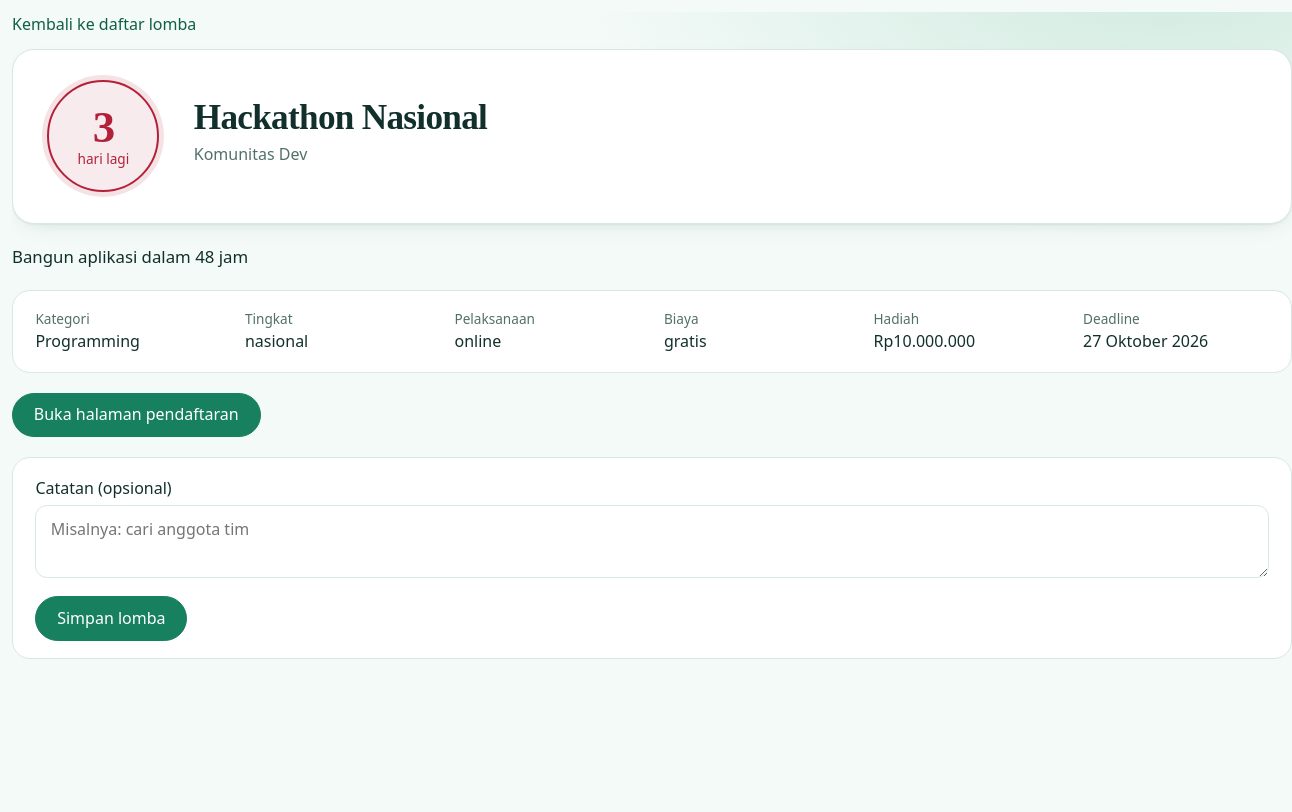
Detail lomba › menyimpan lomba dengan catatan
The image size is (1292, 812).
Expected: the heading "Hackathon Nasional" is shown, [194,98,487,137]
In the text box labelled "Catatan (opsional)": (652, 541) [35,505,1269,578], type "cari anggota tim"
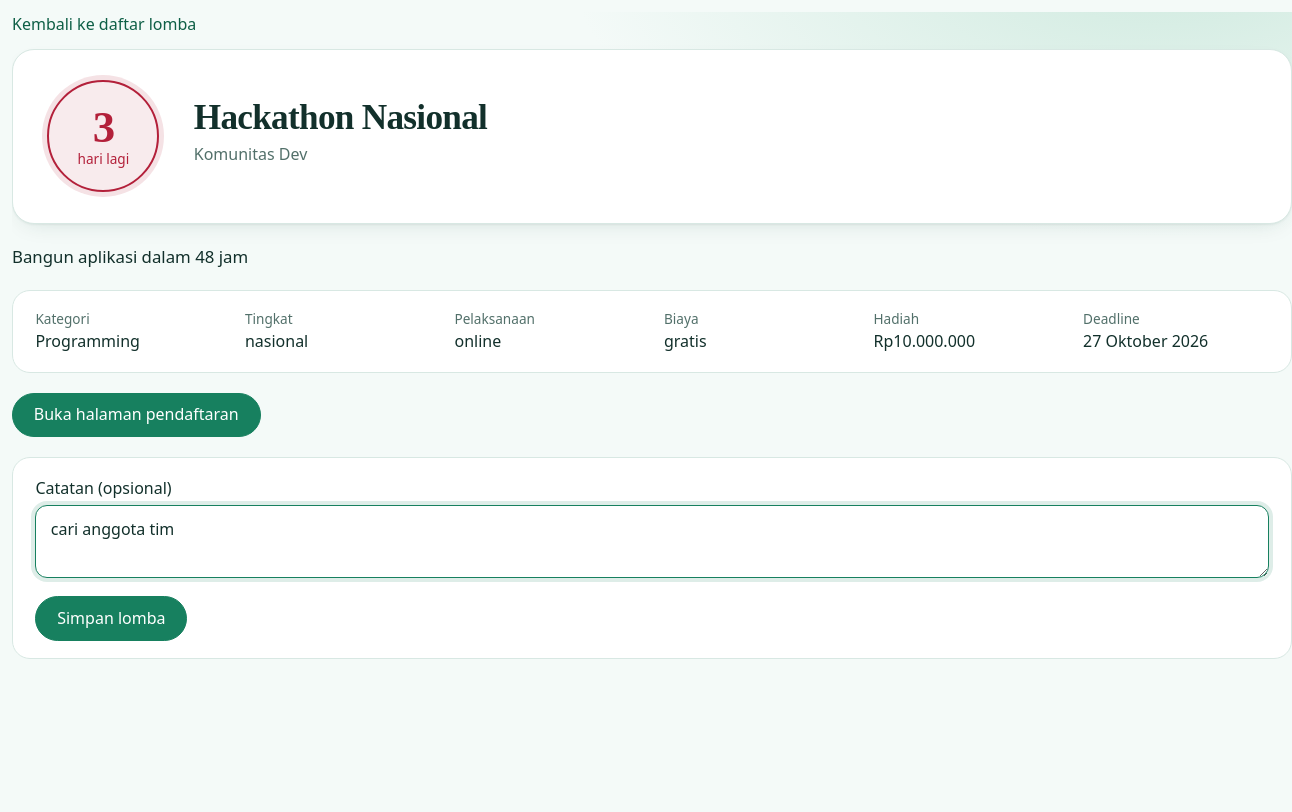
Click the button "Simpan lomba": (111, 619) [35,596,187,641]
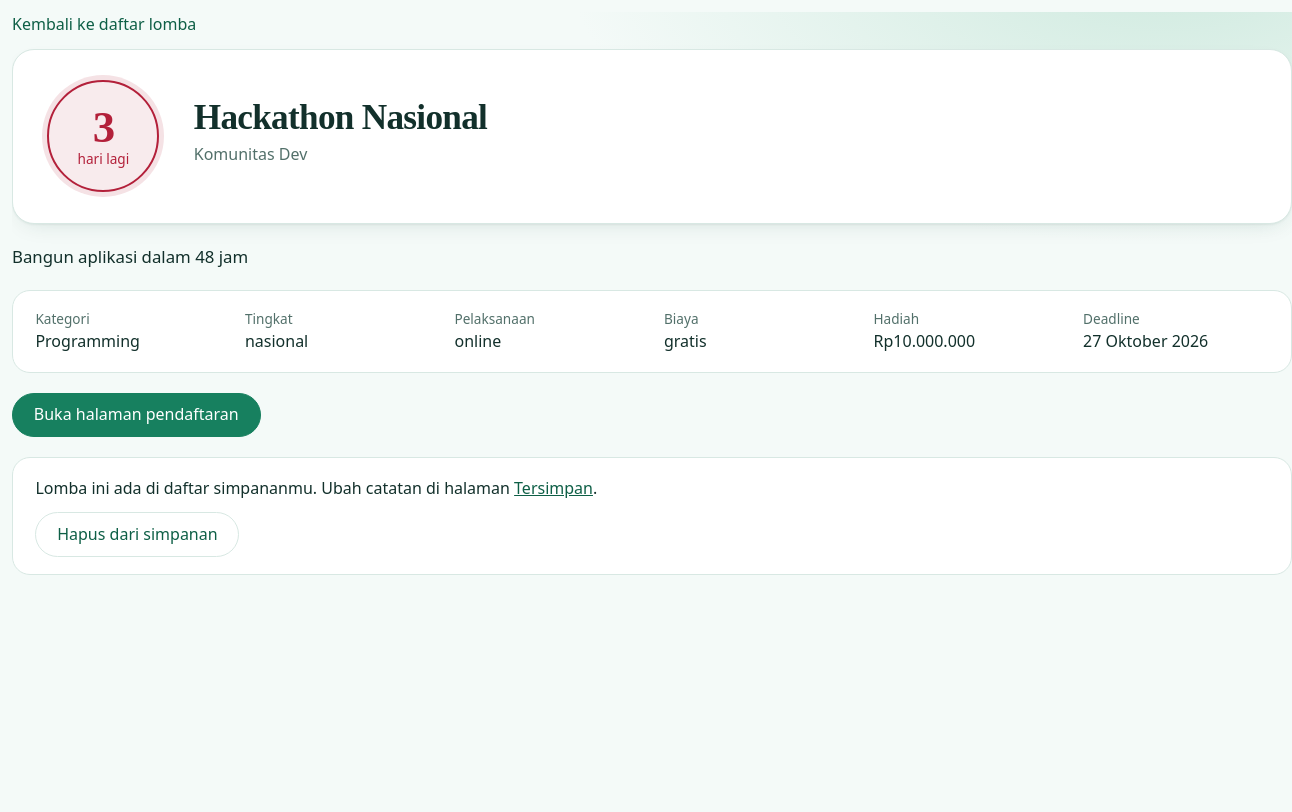
Expected: the button "Hapus dari simpanan" is shown, [35,512,239,557]
